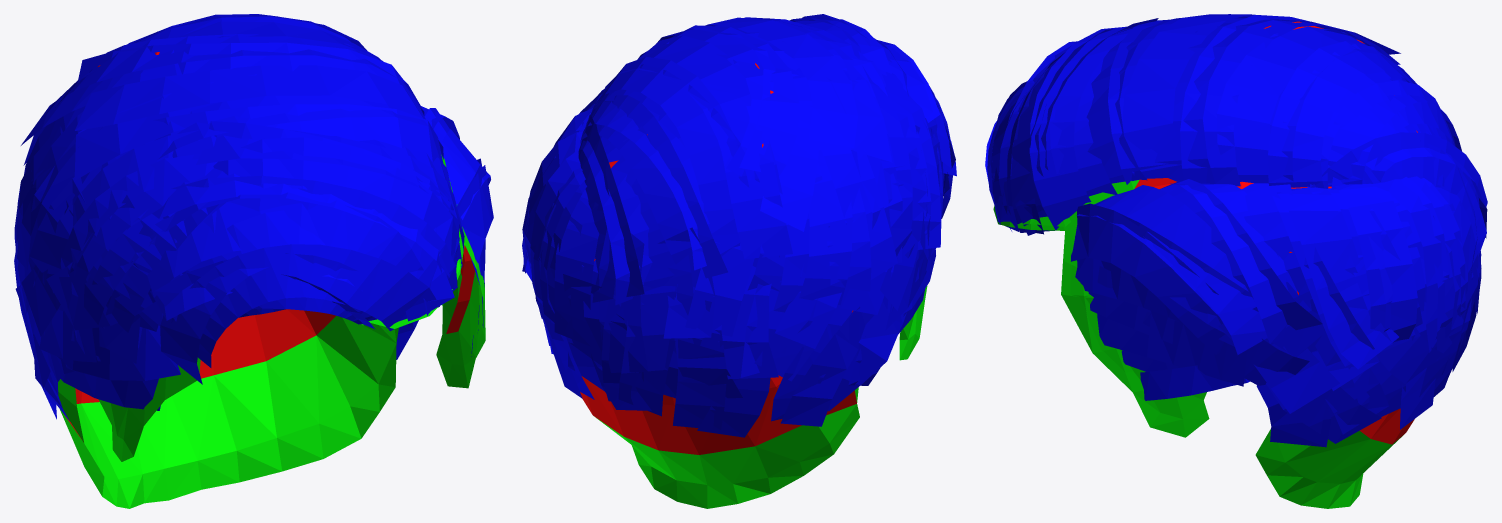
Rendered from hair_002.obj.
The picture shows the model from 3 angles, left to right: view 1: azimuth 30°, elevation 25°; view 2: azimuth 150°, elevation 25°; view 3: azimuth 270°, elevation 25°; orthographic projection. The views are drawn at different scales.
Size of the model in its own units: 19.84 by 22.37 by 22.33.
